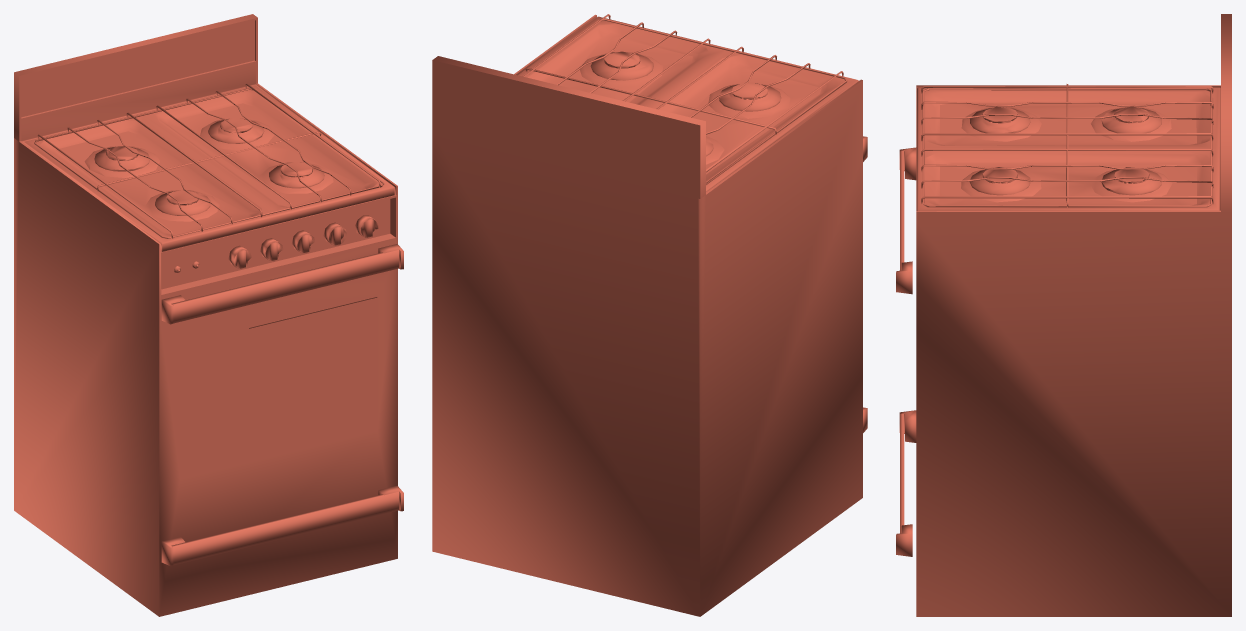
The model's file is Furniture_Stove.fbx.
The picture shows the model from 3 angles, left to right: view 1: azimuth 30°, elevation 25°; view 2: azimuth 150°, elevation 25°; view 3: azimuth 270°, elevation 25°; orthographic projection. The views are drawn at different scales.
Parts seen in each view (by area): view 1: stove; view 2: stove; view 3: stove.
Boxes of the visible parts, <box> form: stove: <box>14,14,403,616</box>; stove: <box>432,14,867,616</box>; stove: <box>896,14,1231,616</box>.
Size of the model in its own units: 57 by 99.98 by 63.87.
